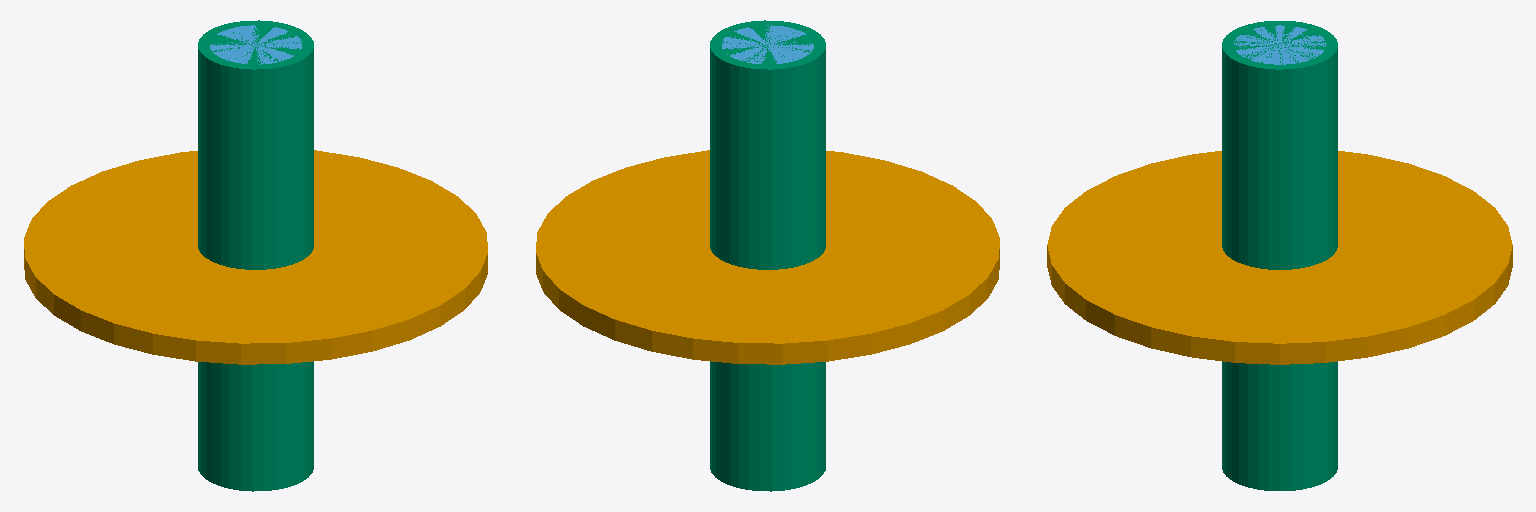
URDF robot description (pan_tilt):
<?xml version="1.0"?>
<robot name="pan_tilt">


<!-- baza robotului -->
	<link name="base_link">
		
		<!-- baza robotului VIZUAL-->
    <visual>

			<!-- baza robotului GEOMETRIE-->
			<geometry>
				<cylinder length="0.02" radius="0.2"/>
      </geometry>
    </visual>
  
	</link>


	<link name="pan_link">
		
		<!-- baza robotului VIZUAL-->
    <visual>

			<!-- baza robotului GEOMETRIE-->
			<geometry>
				<cylinder length="0.4" radius="0.04"/>
      </geometry>
    </visual>
  
	</link>


	<link name="tilt_link">
		
		<!-- baza robotului VIZUAL-->
    <visual>

			<!-- baza robotului GEOMETRIE-->
			<geometry>
				<cylinder length="0.4" radius="0.05"/>
      </geometry>
    </visual>
  
	</link>


<!--CUPLE: baza robotului & cilindru -->
	<joint name="pan_joint" type="fixed">
    <parent link="base_link"/>
    <child link="pan_link"/>
	</joint>

	<joint name="tilt_joint" type="fixed">
    <parent link="pan_link"/>
    <child link="tilt_link"/>
	</joint>


<!--
  <joint name="pan_joint" type="revolute">
    <parent link="base_link"/>
    <child link="pan_link"/>
    <origin xyz="0 0 0.1"/>
    <axis xyz="0 0 1" />
    <limit effort="300" velocity="0.1" lower="-3.14" upper="3.14"/>
    <dynamics damping="50" friction="1"/>
  </joint>

  <link name="pan_link">
    <visual>
      <geometry>
	<cylinder length="0.4" radius="0.04"/>
      </geometry>
      <origin rpy="0 0 0" xyz="0 0 0.09"/>
      <material name="red">
        <color rgba="0 0 1 1"/>
      </material>
    </visual>
    <collision>
      <geometry>
	<cylinder length="0.4" radius="0.06"/>
      </geometry>
      <origin rpy="0 0 0" xyz="0 0 0.09"/>
    </collision>
    <inertial>
	<mass value="1"/>
	<inertia ixx="1.0" ixy="0.0" ixz="0.0" iyy="1.0" iyz="0.0" izz="1.0"/>
    </inertial>
  </link>

  <joint name="tilt_joint" type="revolute">
    <parent link="pan_link"/>
    <child link="tilt_link"/>
    <origin xyz="0 0 0.2"/>
    <axis xyz="0 1 0" />
    <limit effort="300" velocity="0.1" lower="-4.64" upper="-1.5"/>
    <dynamics damping="50" friction="1"/>
  </joint>

  <link name="tilt_link">
    <visual>
      <geometry>
	<cylinder length="0.4" radius="0.04"/>
      </geometry>
      <origin rpy="0 1.5 0" xyz="0 0 0"/>
      <material name="green">
        <color rgba="1 0 0 1"/>
      </material>
    </visual>
    <collision>
      <geometry>
	<cylinder length="0.4" radius="0.06"/>
      </geometry>
      <origin rpy="0 1.5 0" xyz="0 0 0"/>
    </collision>
    <inertial>
	<mass value="1"/>
	<inertia ixx="1.0" ixy="0.0" ixz="0.0" iyy="1.0" iyz="0.0" izz="1.0"/>
    </inertial>

  </link>
-->

</robot>

--- Render facts (derived) ---
3 views of the same robot in one strip: view 1: azimuth 30°, elevation 25°; view 2: azimuth 150°, elevation 25°; view 3: azimuth 270°, elevation 25° (orthographic).
Robot: pan_tilt — 3 links, 2 joints (2 fixed); root link base_link; default pose: every joint at zero.
Visible links, largest first — view 1: base_link, tilt_link, pan_link; view 2: base_link, tilt_link, pan_link; view 3: base_link, tilt_link, pan_link.
Boxes of the visible links, x1,y1,x2,y2 form: base_link: [24, 150, 487, 364]; tilt_link: [198, 20, 313, 491]; pan_link: [210, 25, 301, 64]; base_link: [536, 150, 999, 364]; tilt_link: [710, 20, 825, 491]; pan_link: [722, 25, 813, 63]; base_link: [1047, 151, 1512, 364]; tilt_link: [1222, 21, 1337, 490]; pan_link: [1234, 25, 1325, 64].
Size in the robot's own frame: 0.4 by 0.4 by 0.4 metres.
Geometry: primitives only (box / cylinder / sphere), no mesh files.